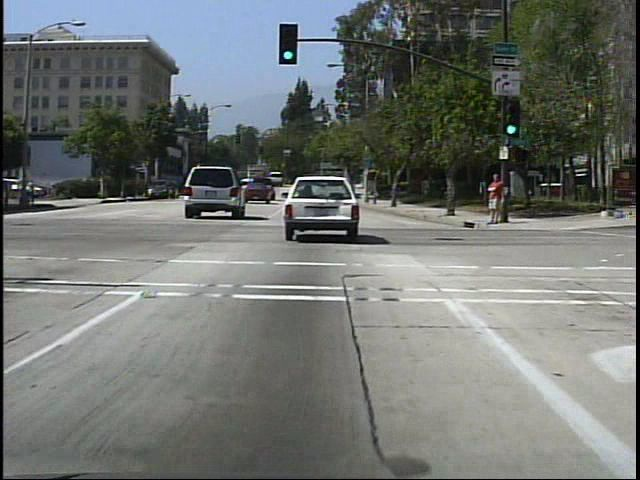person: (478, 169, 507, 226), (19, 178, 30, 210), (29, 180, 39, 206)
